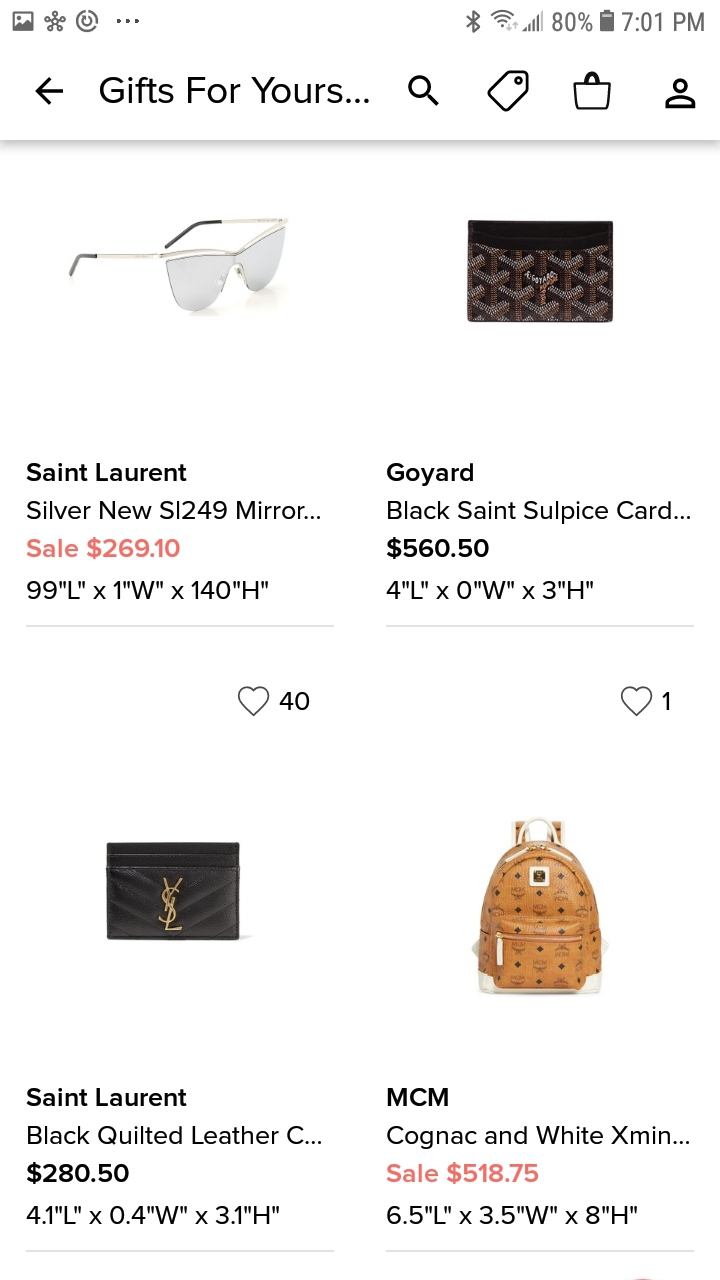Icon: (487, 70, 530, 113), (573, 72, 612, 112), (237, 685, 270, 717), (620, 686, 653, 717), (664, 79, 696, 110), (408, 76, 439, 107), (36, 78, 65, 107)
Image: (473, 818, 610, 993), (69, 218, 290, 317), (467, 221, 614, 323), (107, 843, 240, 940)
Text: (100, 77, 370, 106), (388, 500, 690, 525), (387, 1126, 690, 1150), (28, 1125, 322, 1145), (27, 500, 321, 520), (27, 1205, 281, 1225), (387, 1205, 638, 1225), (27, 580, 269, 600), (386, 580, 594, 600), (27, 536, 181, 560), (387, 1161, 539, 1184), (27, 1087, 188, 1107), (27, 462, 188, 482), (386, 537, 490, 560), (28, 1162, 131, 1185), (386, 463, 474, 488), (387, 1087, 449, 1107), (280, 692, 311, 711), (661, 692, 670, 711)
UpperTaskBar: (1, 1, 720, 34)
